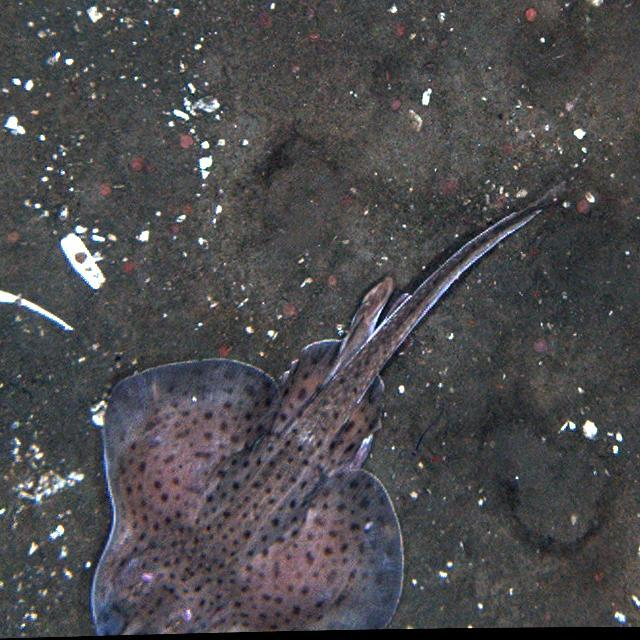skate: (95, 180, 572, 629)
